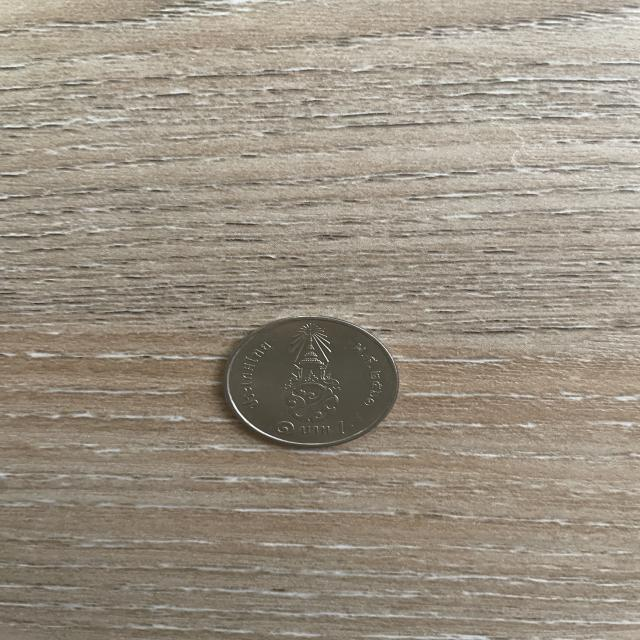1 Bath: (216, 309, 409, 456)
